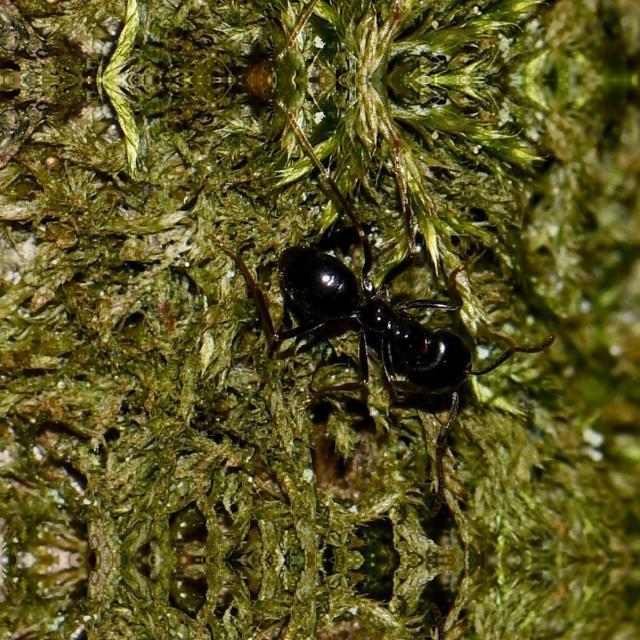Lasius: (234, 214, 496, 426)
